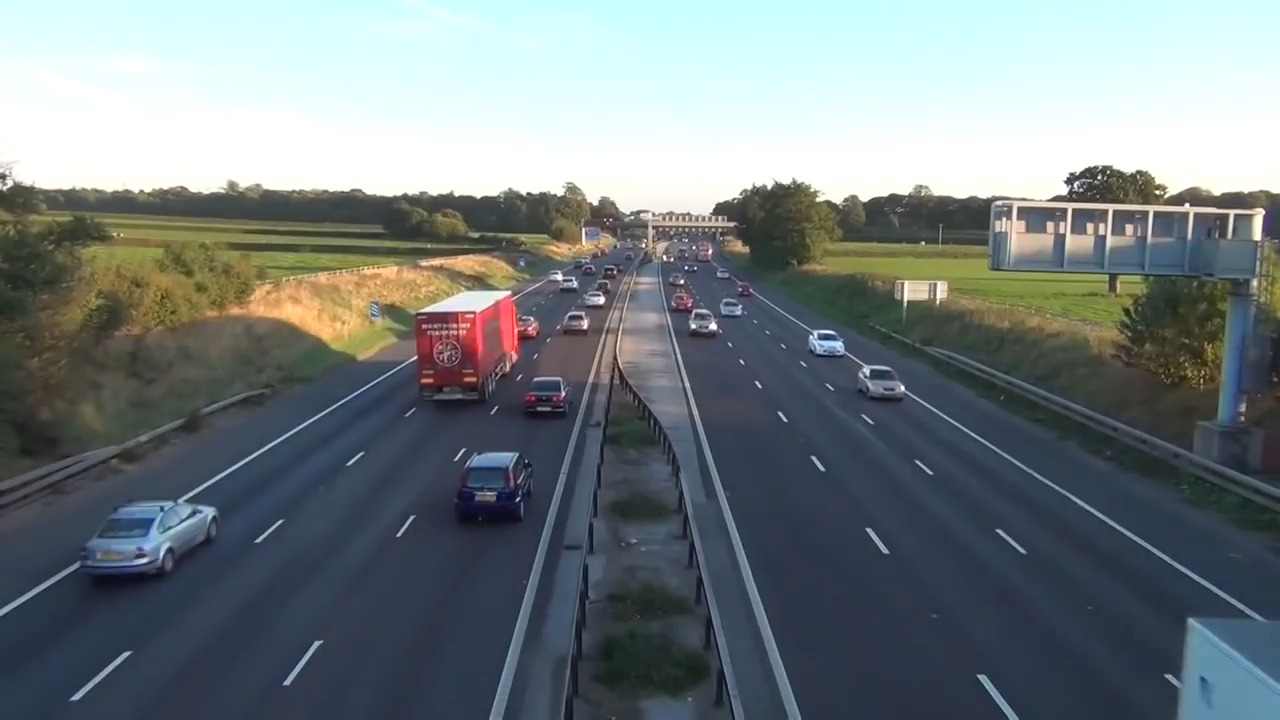truck: (414, 290, 521, 404)
